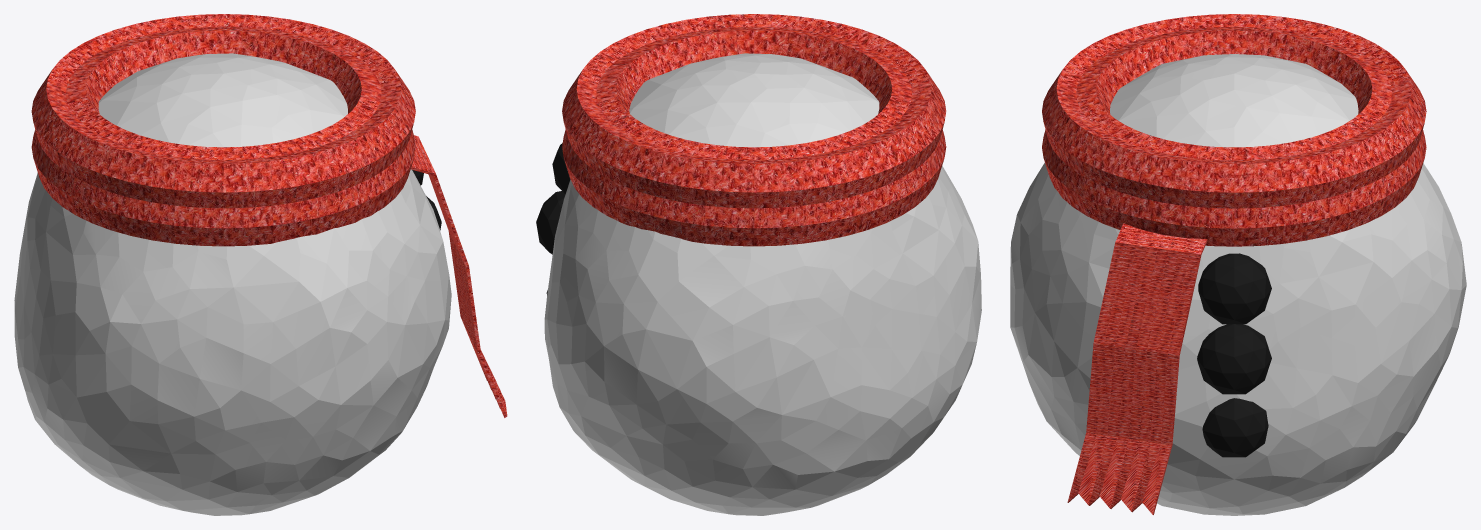
Rendered from middle.gltf.
3 renders of one model, left to right at view 1: azimuth 30°, elevation 25°; view 2: azimuth 150°, elevation 25°; view 3: azimuth 270°, elevation 25°, orthographic.
Parts seen in each view (by area): view 1: Icosphere.001, Torus, Cube_Red_0; view 2: Icosphere.001, Torus, Icosphere.004, Icosphere.005; view 3: Icosphere.001, Torus, Cube_Red_0, Icosphere.004, Icosphere.005, Icosphere.003.
Boxes of the visible parts, x1,y1,x2,y2 form: Icosphere.001: (14,53,451,515); Torus: (31,14,415,246); Cube_Red_0: (411,135,507,417); Icosphere.001: (544,53,981,515); Torus: (562,14,946,246); Icosphere.004: (536,191,565,254); Icosphere.005: (552,143,570,194); Icosphere.001: (1010,54,1466,515); Torus: (1042,14,1426,246); Cube_Red_0: (1067,223,1207,514); Icosphere.004: (1197,324,1271,394); Icosphere.005: (1198,253,1271,324); Icosphere.003: (1202,398,1268,457).
Size of the model in its own units: 142 by 139 by 136.
Materials: 3 (1 with a texture image).
